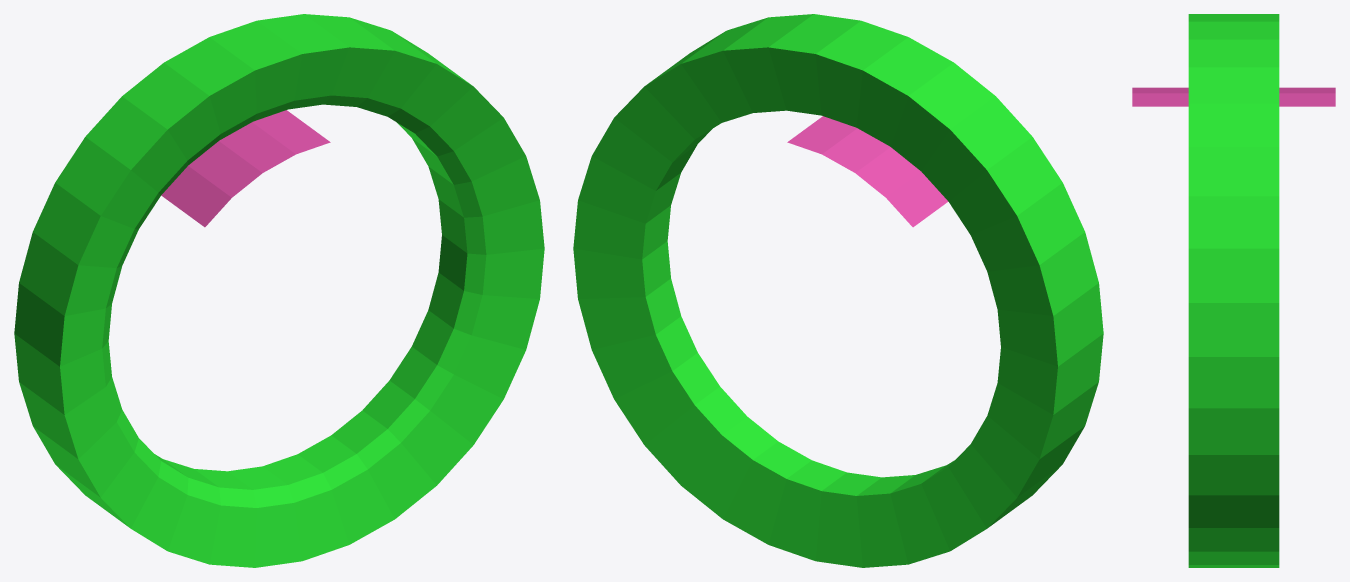
File: ring.glb
3 renders of one model, left to right at view 1: azimuth 30°, elevation 25°; view 2: azimuth 150°, elevation 25°; view 3: azimuth 270°, elevation 25°, orthographic.
Visible parts, largest first — view 1: ring, beat; view 2: ring, beat; view 3: ring, beat.
Part boxes in pixels (x1,y1,x2,y2): ring: [14, 14, 544, 567]; beat: [161, 110, 330, 227]; ring: [573, 14, 1103, 567]; beat: [787, 116, 948, 227]; ring: [1188, 14, 1279, 567]; beat: [1132, 87, 1335, 106].
Size of the model in its own units: 5.4 by 5.4 by 1.98.
